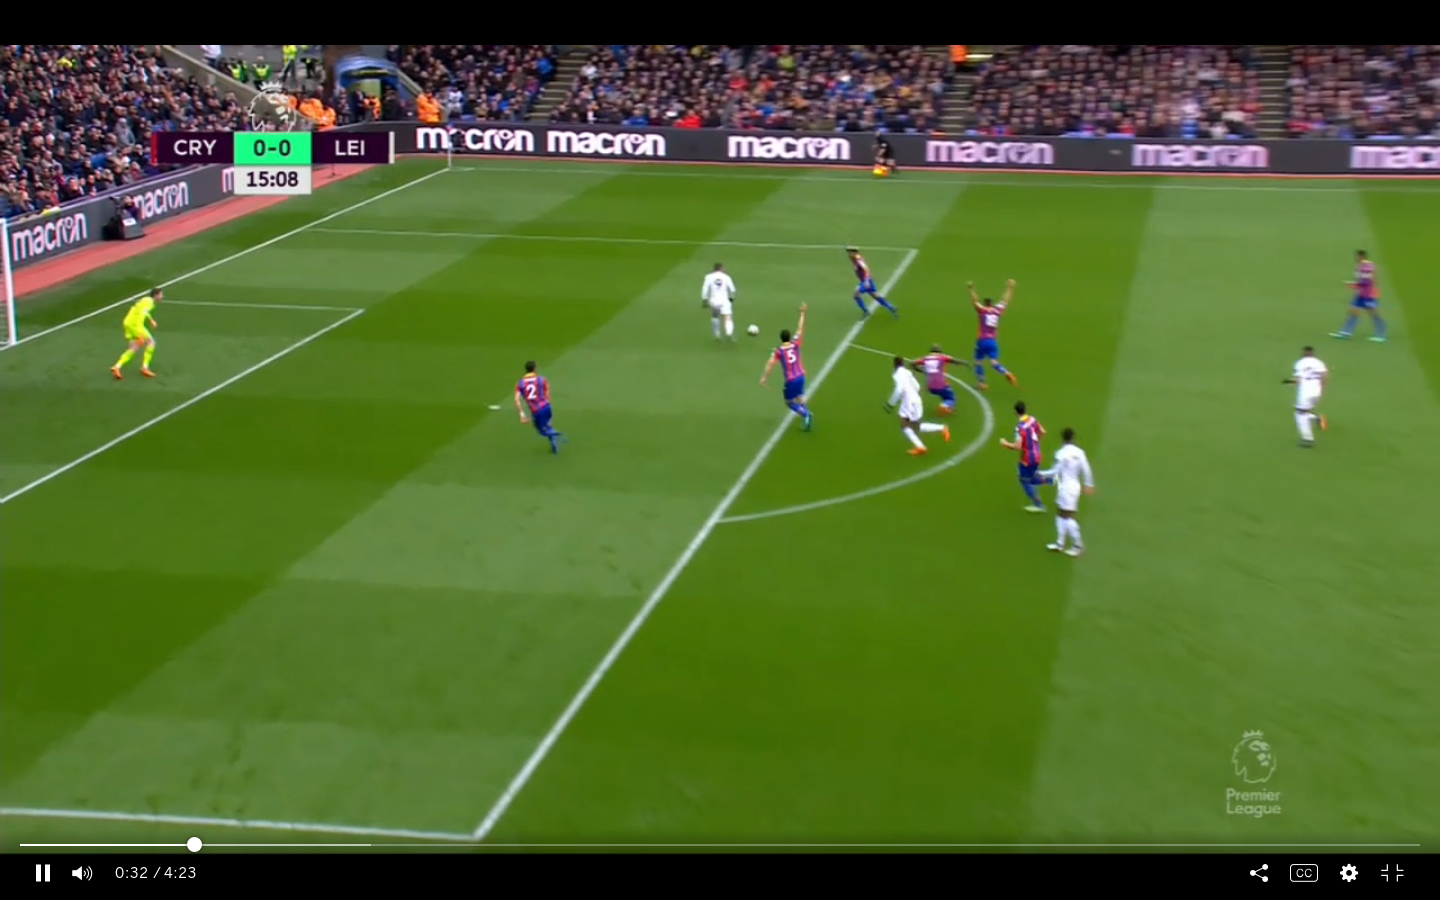soccer player: (1041, 422, 1104, 559), (758, 316, 822, 432), (515, 349, 572, 457), (965, 282, 1019, 396), (113, 277, 170, 383), (1281, 343, 1332, 451), (1339, 248, 1393, 349), (1004, 402, 1047, 519), (844, 237, 896, 331), (881, 349, 924, 456), (916, 337, 968, 417), (699, 254, 739, 345)
soccerball: (742, 317, 767, 340)
